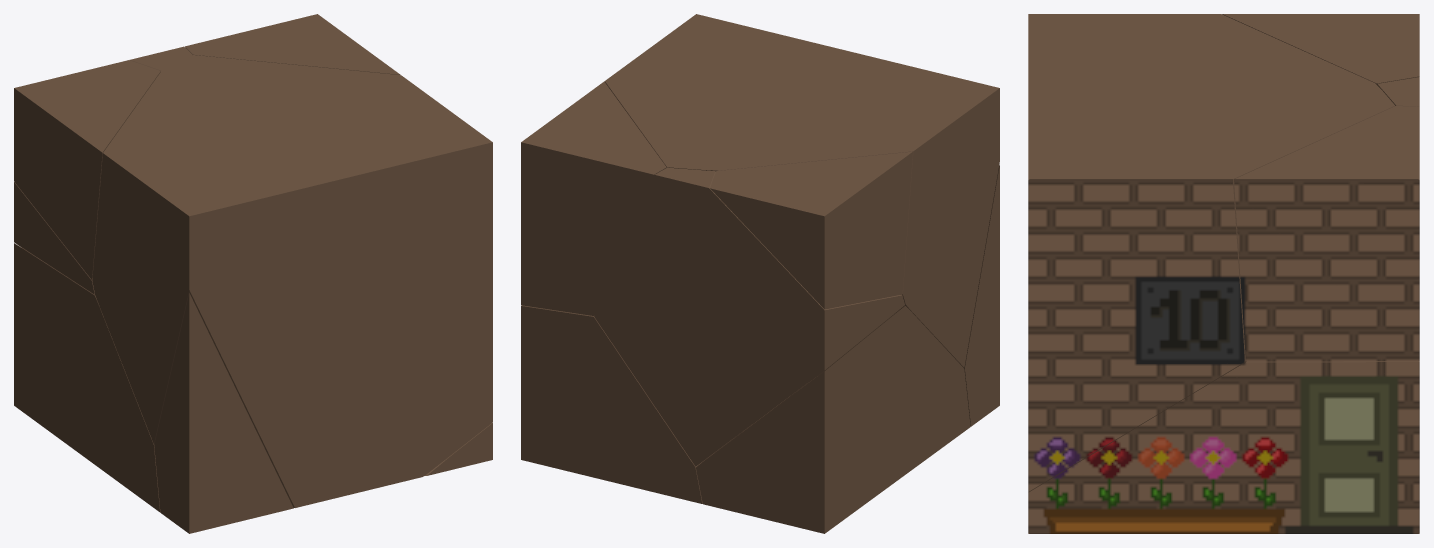
File: BrickBuildingBrown128x128_Ground03_break.fbx
The picture shows the model from 3 angles, left to right: view 1: azimuth 30°, elevation 25°; view 2: azimuth 150°, elevation 25°; view 3: azimuth 270°, elevation 25°; orthographic projection. The views are drawn at different scales.
Parts seen in each view (by area): view 1: Ground03Break04, Ground03Break01, Ground03Break06, Ground03Break05, Ground03Break03, Ground03Break07, Ground03Break02; view 2: Ground03Break04, Ground03Break07, Ground03Break01, Ground03Break03, Ground03Break02, Ground03Break05, Ground03Break06; view 3: Ground03Break04, Ground03Break02, Ground03Break03, Ground03Break05, Ground03Break07.
Boxes of the visible parts, <box> form: Ground03Break04: <box>92,55,492,507</box>; Ground03Break01: <box>14,243,160,512</box>; Ground03Break06: <box>154,293,293,533</box>; Ground03Break05: <box>14,60,160,279</box>; Ground03Break03: <box>185,14,400,74</box>; Ground03Break07: <box>14,46,192,295</box>; Ground03Break02: <box>425,423,492,475</box>; Ground03Break04: <box>604,14,999,367</box>; Ground03Break07: <box>594,167,904,466</box>; Ground03Break01: <box>696,306,970,533</box>; Ground03Break03: <box>521,81,666,315</box>; Ground03Break02: <box>521,305,789,503</box>; Ground03Break05: <box>710,151,912,309</box>; Ground03Break06: <box>964,164,999,426</box>; Ground03Break04: <box>1028,14,1395,492</box>; Ground03Break02: <box>1028,361,1419,533</box>; Ground03Break03: <box>1234,106,1419,361</box>; Ground03Break05: <box>1222,14,1419,84</box>; Ground03Break07: <box>1376,77,1419,106</box>.
Bounding box in the file's own units: 100 × 100 × 100.
1 material, 1 textured.
